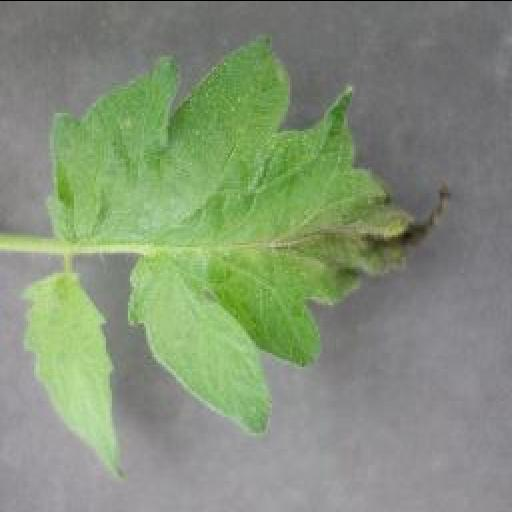disease_tomato: (44, 34, 460, 434)
